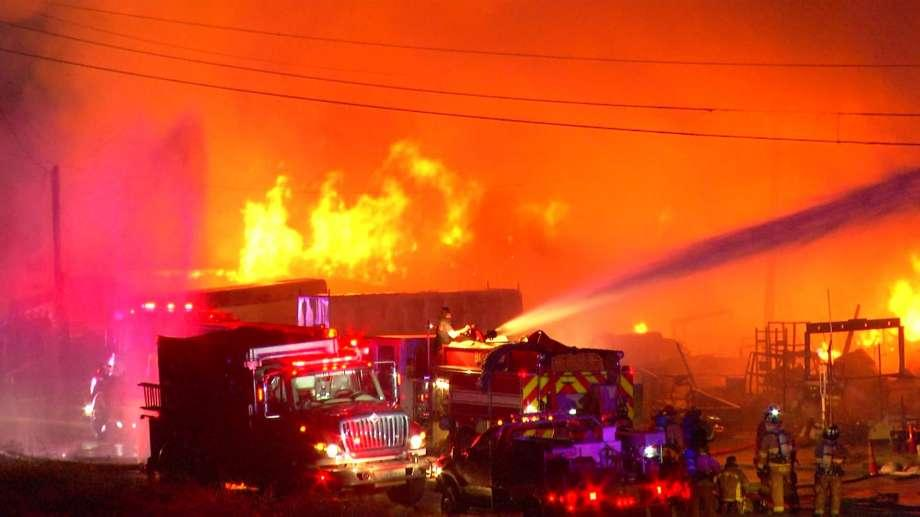Fire: (185, 137, 501, 278), (813, 253, 920, 355)
